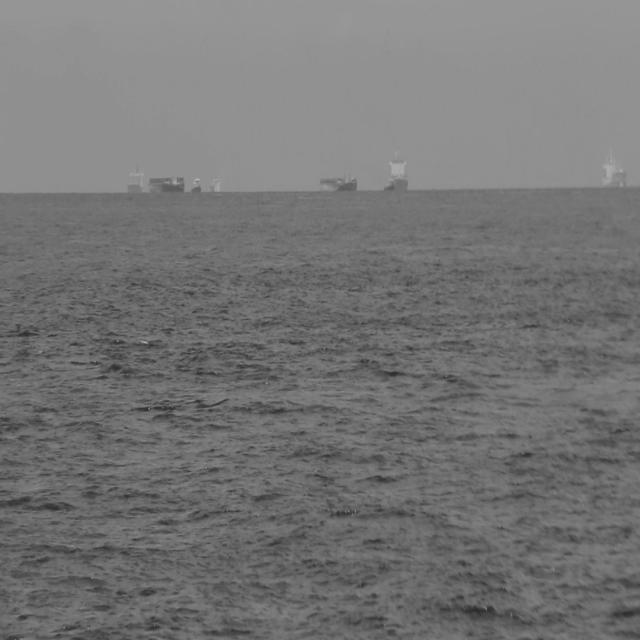ship: (126, 164, 185, 196), (381, 146, 409, 193), (600, 146, 626, 190), (319, 171, 358, 193), (189, 175, 202, 195)
